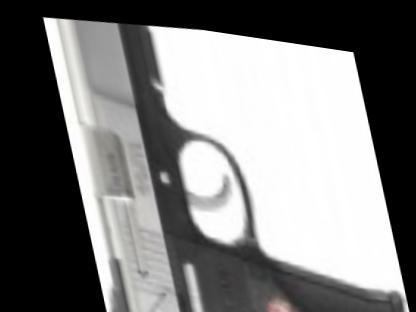pistol: (41, 4, 397, 311)
